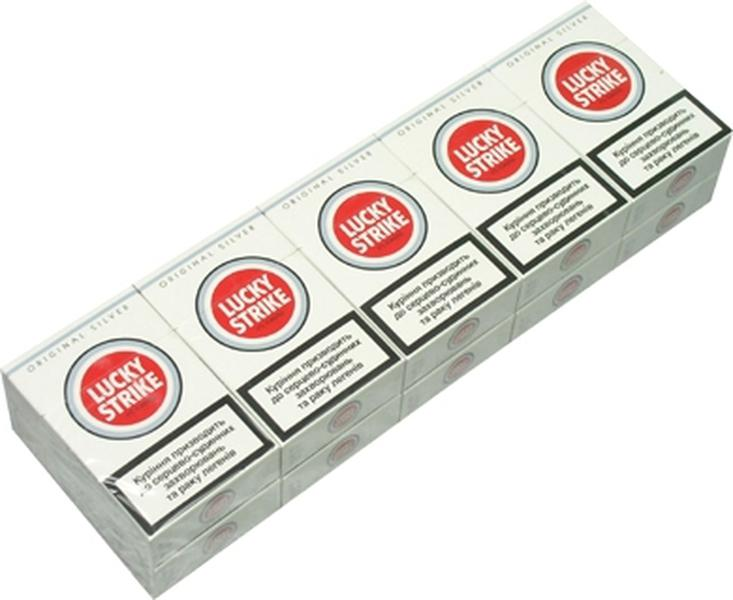lucky_strike_red: (54, 320, 214, 492), (188, 239, 349, 400), (424, 93, 585, 229), (534, 20, 692, 151), (297, 178, 447, 303)
